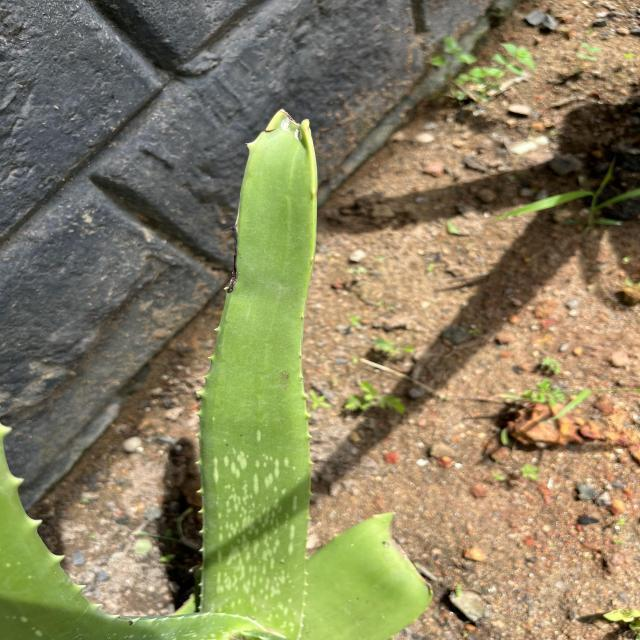Aloe vera: (195, 107, 328, 622)
